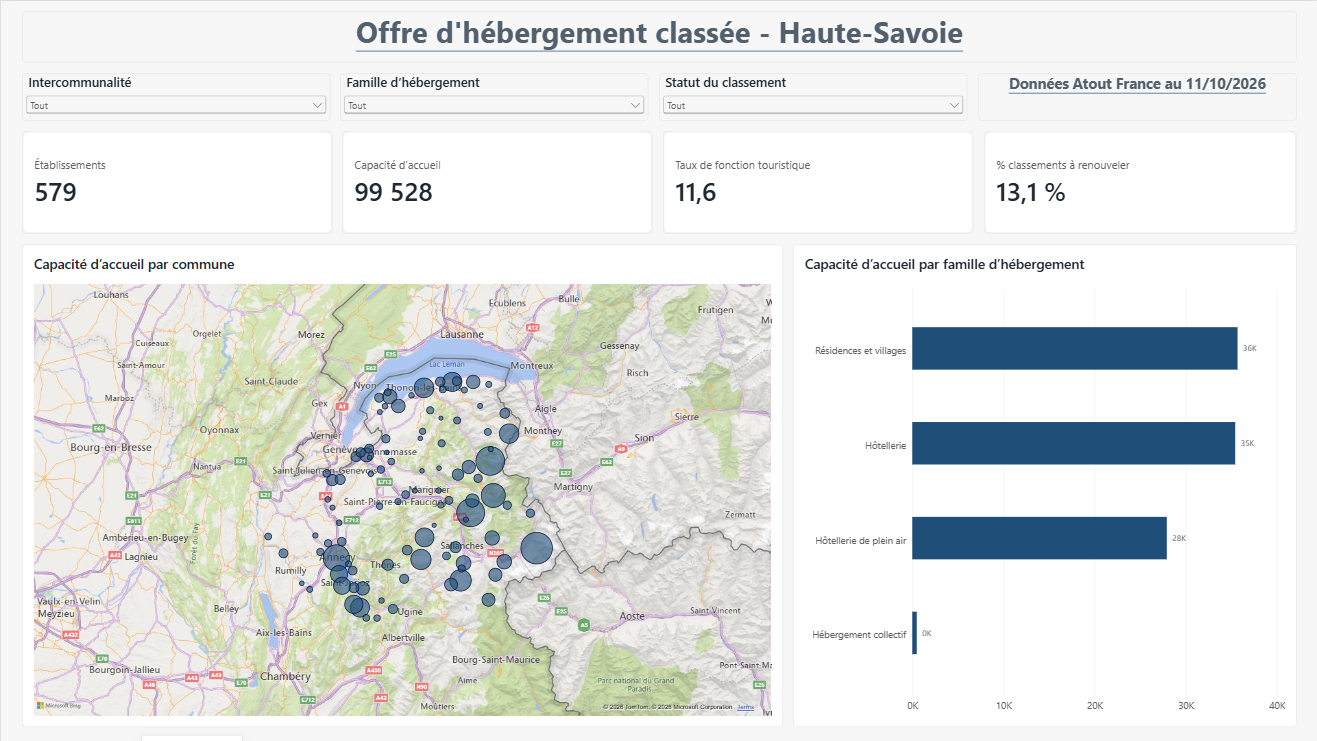

This screenshot's page, from the dashboard's own definition file:
{"tool":"powerbi","page":{"name":"Vue d'ensemble","canvas":[1920,1080],"ordinal":0},"visuals":[{"type":"cardVisual","fields":{"Data":["Mesures.Établissements"]},"box":[30,190,453,150],"z":0},{"type":"slicer","fields":{"Values":["dim_commune.nom_epci"]},"box":[31,105,450,70],"z":1000},{"type":"slicer","fields":{"Values":["dim_typologie.famille"]},"box":[495,105,450,70],"z":2000},{"type":"cardVisual","fields":{"Data":["Mesures.Capacité totale (affichage)"]},"box":[498,190,453,150],"z":3000},{"type":"cardVisual","fields":{"Data":["Mesures.Taux de fonction touristique"]},"box":[966,190,453,150],"z":4000},{"type":"cardVisual","fields":{"Data":["Mesures.% classements à renouveler","select"]},"box":[1434,190,456,150],"z":5000},{"type":"map","title":"Capacité d’accueil par commune","fields":{"Size":["Mesures.Capacité totale"],"X":["dim_commune.longitude"],"Y":["dim_commune.latitude"]},"box":[30,355,1110,705],"z":6000},{"type":"slicer","fields":{"Values":["fct_hebergements_classes.statut_classement"]},"box":[960,105,450,70],"z":7000},{"type":"clusteredBarChart","title":"Capacité d’accueil par famille d’hébergement","fields":{"Category":["dim_typologie.famille"],"Y":["Mesures.Capacité totale"]},"box":[1155,355,735,705],"z":8000},{"type":"textbox","box":[30,15,1860,75],"z":9000},{"type":"textbox","box":[1425,105,465,70],"z":10000}]}

Visuals, with their boxes in screenshot pixels (x1, y1, x2, y2), scaled from the page's 1920x1080 canvas onto the 1317x741 screenshot:
cardVisual - Mesures.Établissements: <region>21, 130, 331, 233</region>
slicer - dim_commune.nom_epci: <region>21, 72, 330, 120</region>
slicer - dim_typologie.famille: <region>340, 72, 648, 120</region>
cardVisual - Mesures.Capacité totale (affichage): <region>342, 130, 652, 233</region>
cardVisual - Mesures.Taux de fonction touristique: <region>663, 130, 973, 233</region>
cardVisual - Mesures.% classements à renouveler x select: <region>984, 130, 1296, 233</region>
"Capacité d’accueil par commune" map: <region>21, 244, 782, 727</region>
slicer - fct_hebergements_classes.statut_classement: <region>658, 72, 967, 120</region>
"Capacité d’accueil par famille d’hébergement" clusteredBarChart: <region>792, 244, 1296, 727</region>
textbox: <region>21, 10, 1296, 62</region>
textbox: <region>977, 72, 1296, 120</region>
